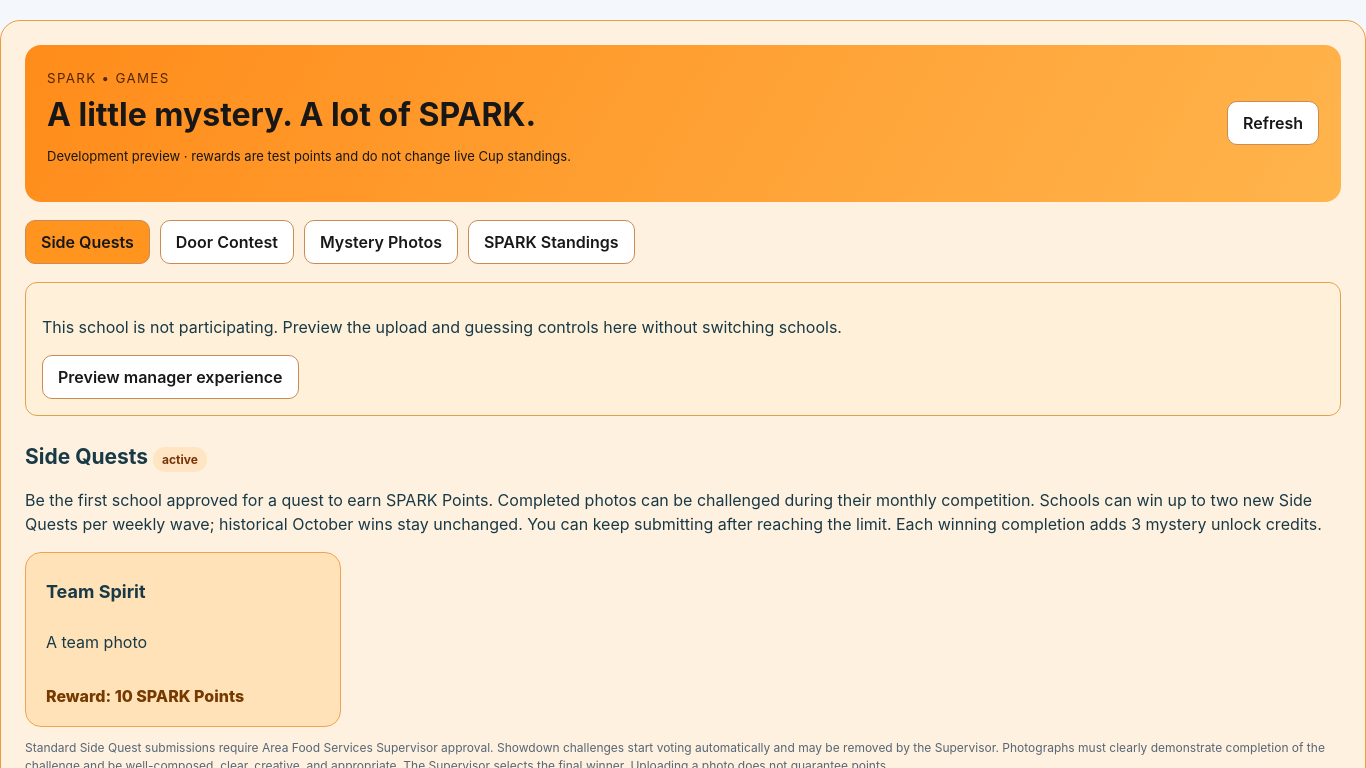
Test: Test High School can open Mystery Photos without a current puzzle (preview: false)
Click the button "Mystery Photos".
click(381, 242)  # box [304,220,458,264]
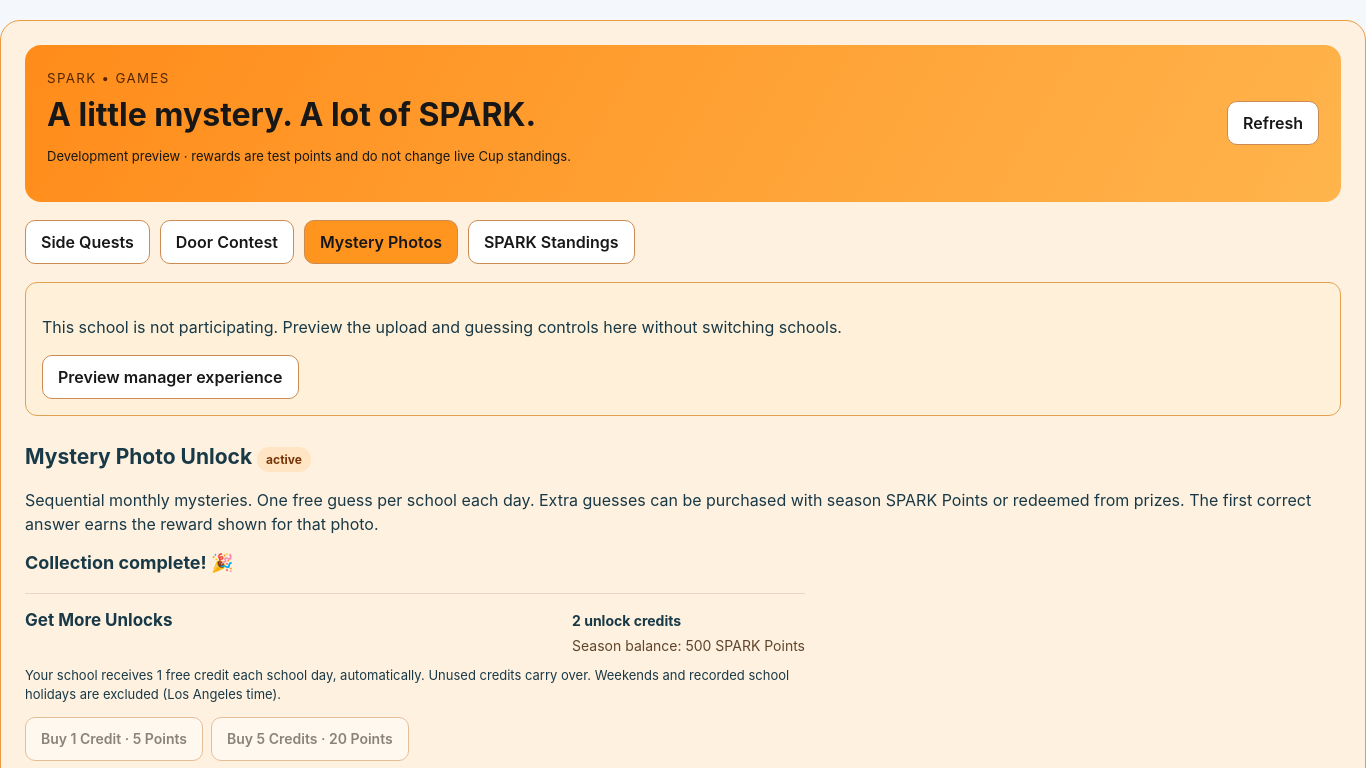
Expected: the text "Mystery Photo Unlock" is shown, [25,444,257,468]
Expected: the text "Get More Unlocks" is shown, [25,610,172,630]
Expected: the button "Buy 1 Credit · 5 Points" is disabled, [25,716,203,760]
Click the button "Side Quests".
click(87, 242)  # box [25,220,150,264]
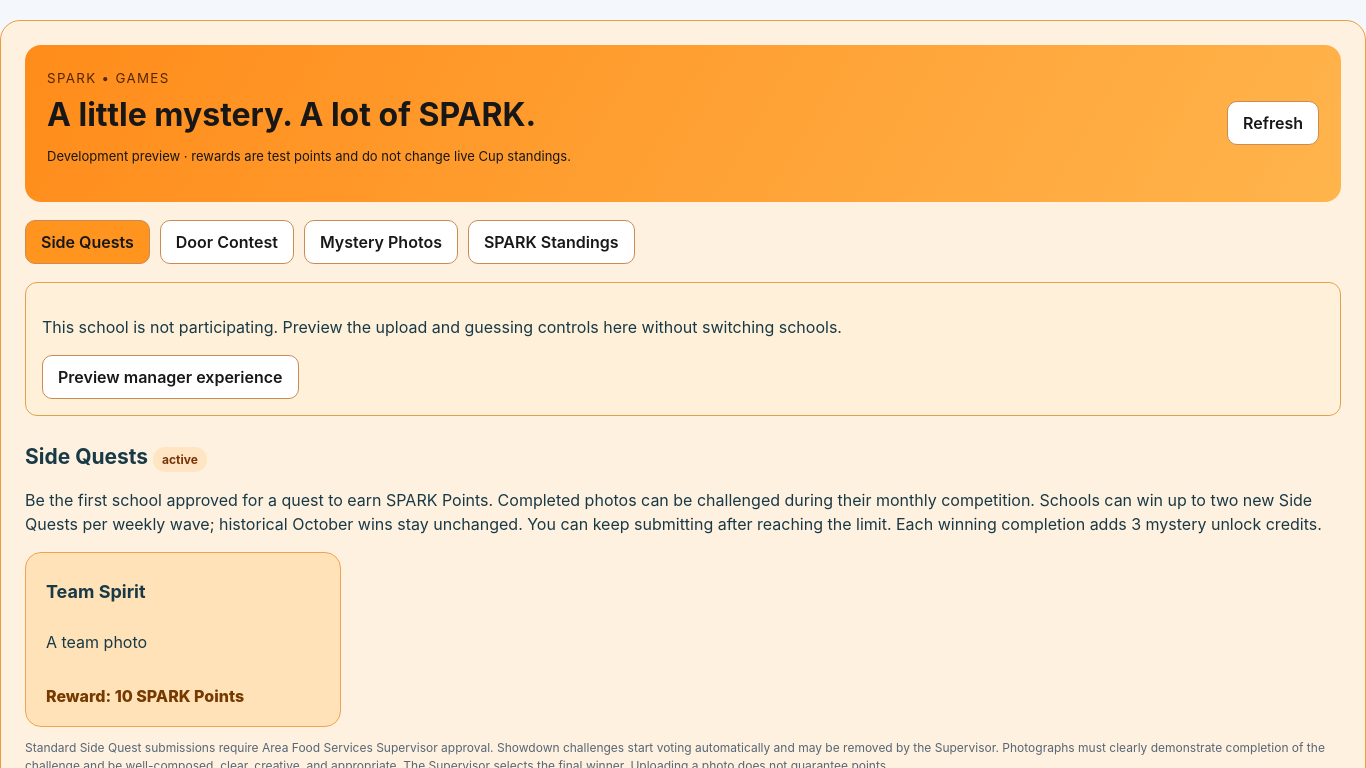
Expected: the text "Team Spirit" is shown, [46,580,146,602]
